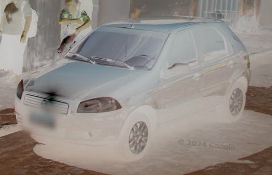car: (14, 18, 251, 157)
